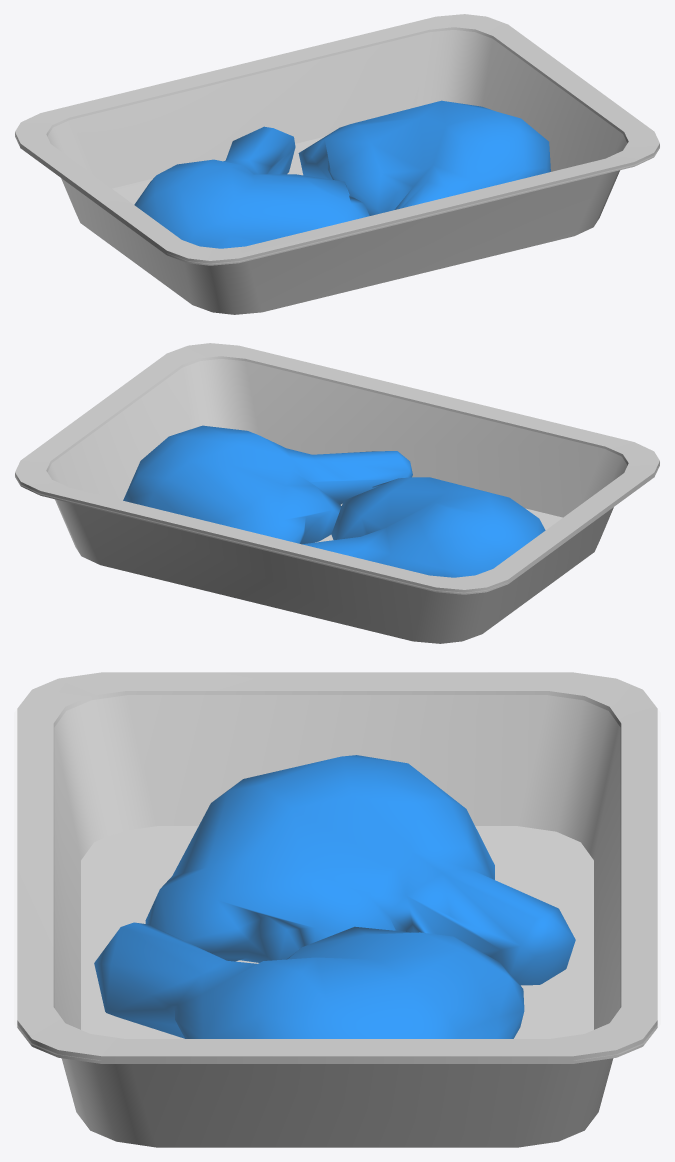
The model's file is Meat.fbx.
3 renders of one model, top to bottom at view 1: azimuth 30°, elevation 25°; view 2: azimuth 150°, elevation 25°; view 3: azimuth 270°, elevation 25°, orthographic. The views are drawn at different scales.
Parts seen in each view (by area): view 1: MeatTray_bbcwdq; view 2: MeatTray_bbcwdq; view 3: MeatTray_bbcwdq.
Part boxes in pixels (<box>): MeatTray_bbcwdq: <box>14,14,660,314</box>; MeatTray_bbcwdq: <box>14,343,660,643</box>; MeatTray_bbcwdq: <box>14,672,660,1147</box>.
Size of the model in its own units: 22.88 by 3.47 by 16.3.
